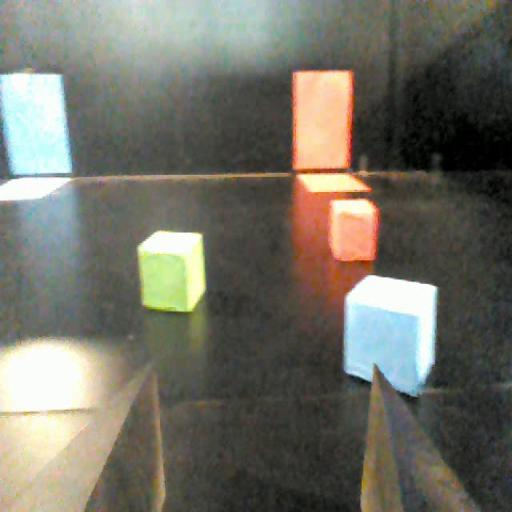cube: (340, 271, 437, 397), (137, 229, 214, 313), (326, 198, 378, 264)
